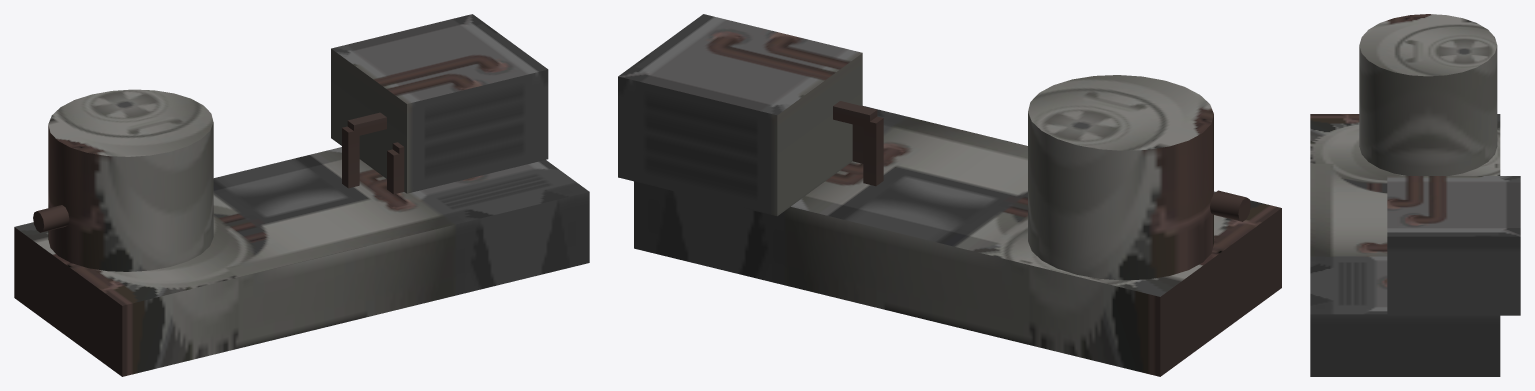
File: Building_BioferriteShaper.obj
The picture shows the model from 3 angles, left to right: view 1: azimuth 30°, elevation 25°; view 2: azimuth 150°, elevation 25°; view 3: azimuth 270°, elevation 25°; orthographic projection. The views are drawn at different scales.
Parts seen in each view (by area): view 1: Body; view 2: Body; view 3: Body.
Boxes of the visible parts, bbox=[...] form: Body: bbox=[14, 14, 589, 376]; Body: bbox=[618, 14, 1281, 376]; Body: bbox=[1310, 14, 1520, 376].
Size of the model in its own units: 3.06 by 1.1 by 1.28.
Materials: 1 (1 with a texture image).
